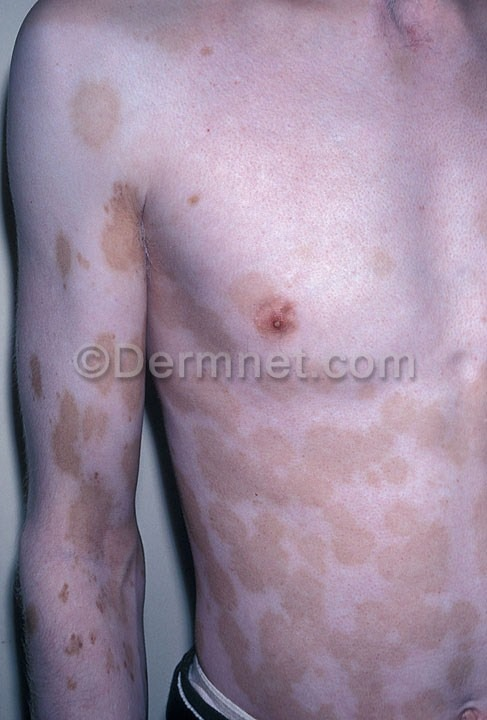Melasma: (191, 401, 487, 716), (18, 406, 150, 671), (46, 86, 184, 295)
